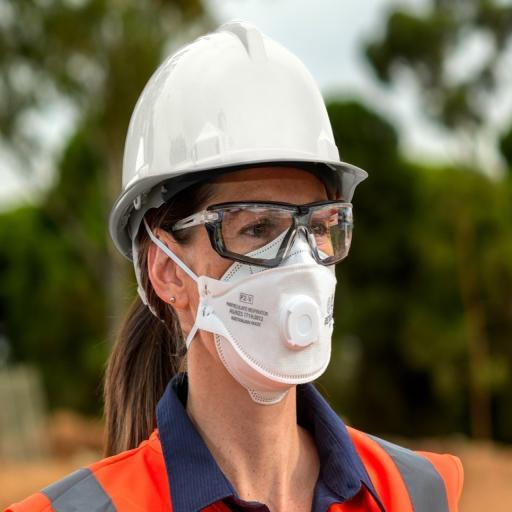mask: (186, 248, 375, 410)
